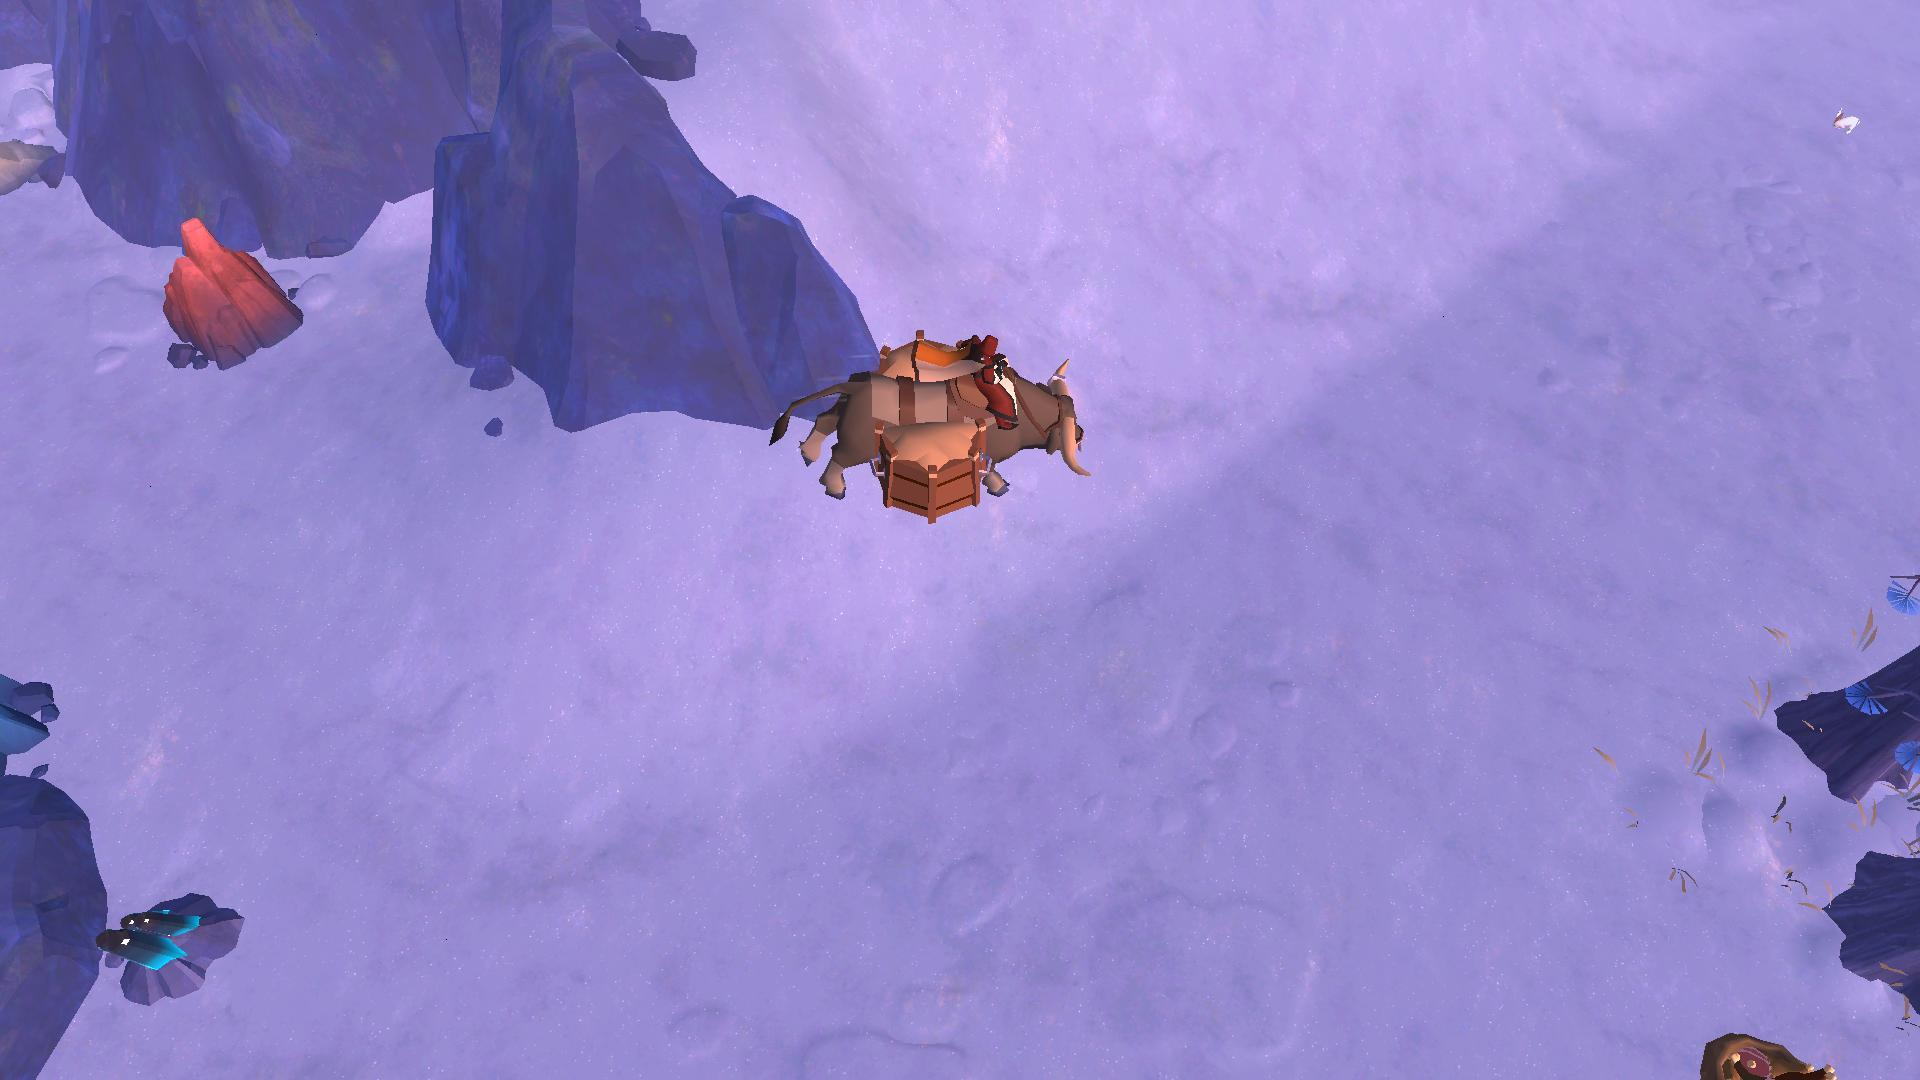ore_t4: (88, 897, 203, 985)
rock_t5: (156, 210, 306, 365)
